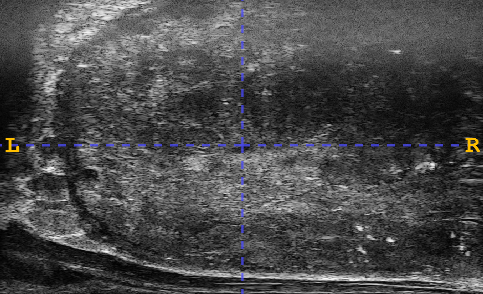calcifications: (306, 179, 481, 283)
